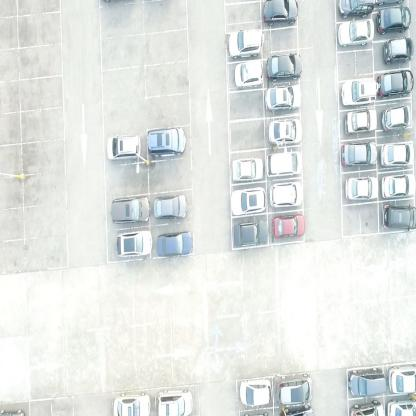car: (276, 371, 312, 404), (340, 76, 378, 107), (147, 127, 186, 157), (230, 184, 266, 216), (347, 367, 386, 396), (110, 195, 150, 223), (265, 52, 302, 82), (338, 18, 375, 48), (377, 68, 414, 98), (157, 228, 193, 257), (156, 388, 194, 415), (238, 376, 272, 406), (228, 28, 262, 58), (344, 105, 378, 135), (268, 117, 303, 146), (382, 202, 416, 231), (233, 220, 268, 248), (116, 230, 152, 257), (106, 134, 142, 161), (266, 150, 302, 177), (341, 140, 377, 167), (265, 84, 302, 110), (270, 180, 304, 208), (380, 140, 415, 167), (152, 194, 188, 220), (388, 362, 415, 396), (272, 213, 306, 240), (263, 0, 298, 26), (344, 174, 379, 200), (380, 104, 412, 132), (378, 8, 410, 35), (113, 392, 150, 415), (235, 59, 262, 90), (382, 174, 416, 198), (383, 38, 414, 64), (232, 157, 264, 182), (337, 0, 375, 18), (350, 397, 384, 415), (386, 398, 416, 416)
